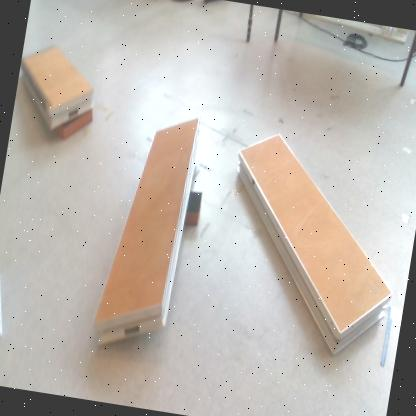Stairs: (236, 134, 393, 357), (96, 118, 201, 346), (21, 44, 94, 130)
